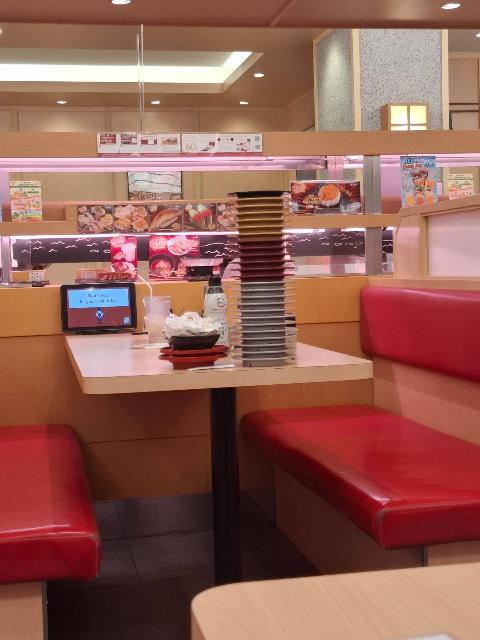janback: (225, 191, 289, 199)
jangold: (229, 232, 289, 240), (230, 217, 285, 225), (233, 225, 289, 232), (230, 211, 294, 217), (236, 205, 285, 212), (240, 198, 284, 204)
janred: (155, 351, 232, 371), (158, 344, 228, 354), (225, 275, 300, 281), (226, 255, 294, 260), (227, 246, 291, 251), (224, 268, 297, 272), (233, 241, 291, 245), (229, 262, 291, 265)
janwhite: (235, 356, 294, 365), (231, 286, 294, 294), (230, 300, 294, 307), (232, 334, 295, 341), (229, 306, 297, 312), (235, 349, 293, 356), (232, 320, 295, 326), (231, 281, 294, 287), (233, 342, 293, 348), (233, 294, 292, 300), (233, 327, 298, 332), (229, 314, 294, 319)
